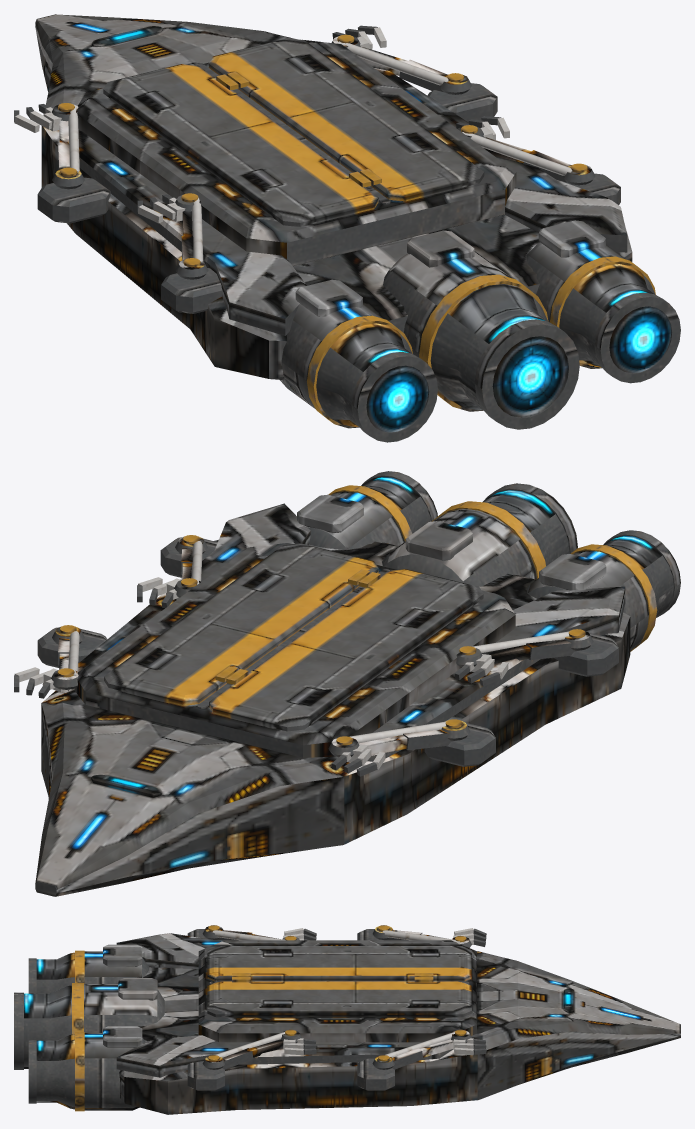
The model's file is combat-freighter.glb.
3 views of the same model, one above another, from view 1: azimuth 30°, elevation 25°; view 2: azimuth 150°, elevation 25°; view 3: azimuth 270°, elevation 25° (orthographic). The views are drawn at different scales.
Visible parts, largest first — view 1: hull / Reference titanium and industrial fittings, hull / Ventral reference plating; view 2: hull / Reference titanium and industrial fittings, hull / Ventral reference plating; view 3: hull / Reference titanium and industrial fittings, hull / Ventral reference plating.
Part boxes in pixels (box(x1,y1,x2,y2)): hull / Reference titanium and industrial fittings: box(14, 14, 680, 442); hull / Ventral reference plating: box(270, 214, 601, 426); hull / Reference titanium and industrial fittings: box(14, 471, 680, 896); hull / Ventral reference plating: box(59, 525, 667, 893); hull / Reference titanium and industrial fittings: box(14, 925, 680, 1114); hull / Ventral reference plating: box(24, 966, 677, 1110).
Bounding box in the file's own units: 10.89 × 3.37 × 20.56.
Materials: 2 (2 with a texture image).
